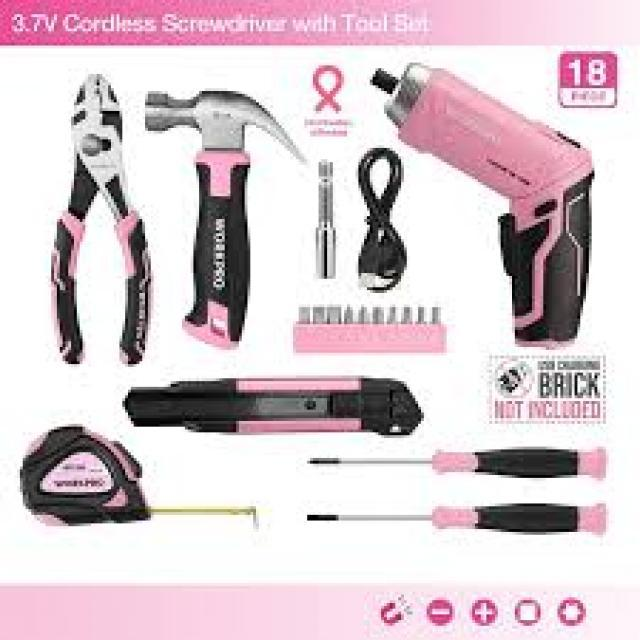hammer: (138, 74, 309, 353)
screwdriver: (290, 440, 612, 484), (302, 496, 612, 539)
